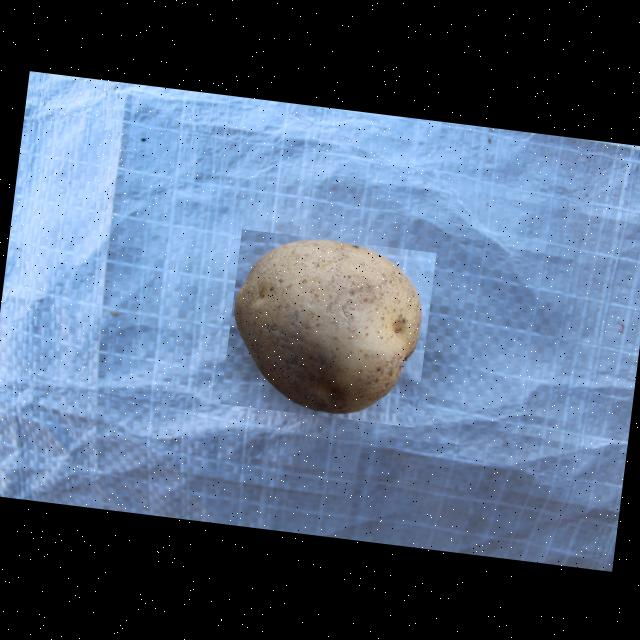Diseased-fungal potato: (219, 228, 435, 427)
